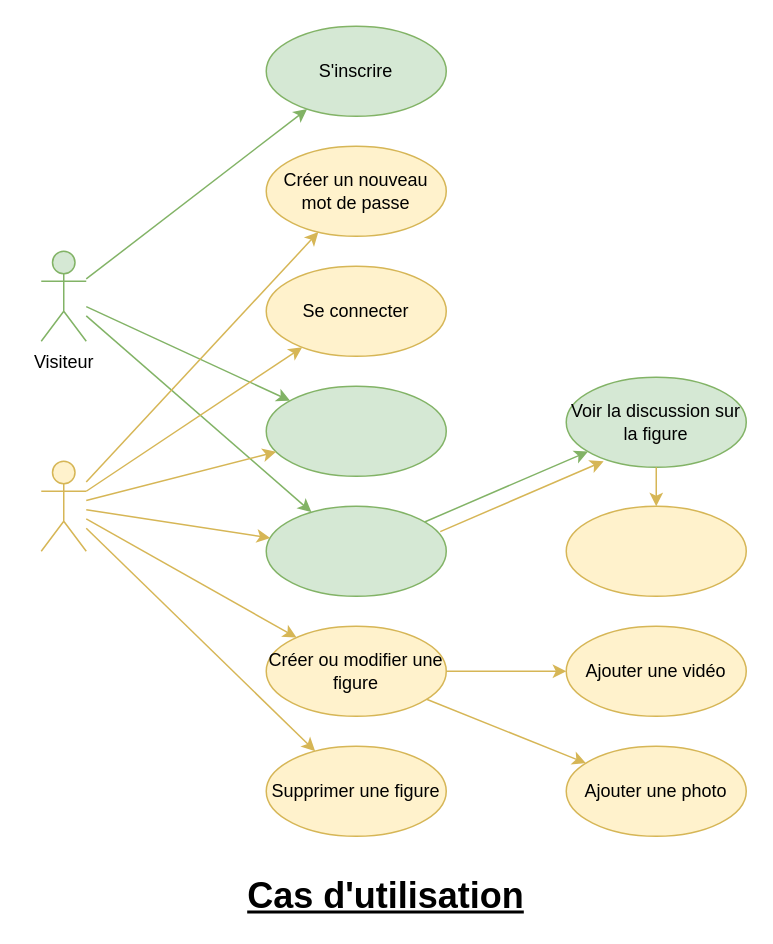
This 773x944 diagram has some shape labels left out. Each missing label, with the centre of its shape:
Ajouter un message: the point at 655,550
Membre: the point at 63,505
Voir la liste des figures: the point at 355,430
Voir le détail d'une figure: the point at 355,550
